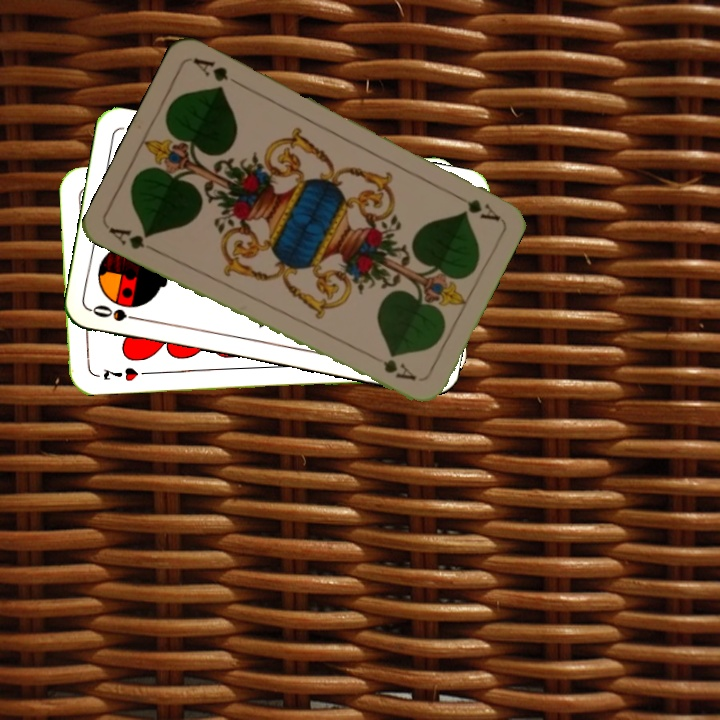GA: (447, 188, 502, 224), (105, 223, 161, 256)
H7: (99, 363, 141, 384)
SO: (88, 301, 147, 324)
